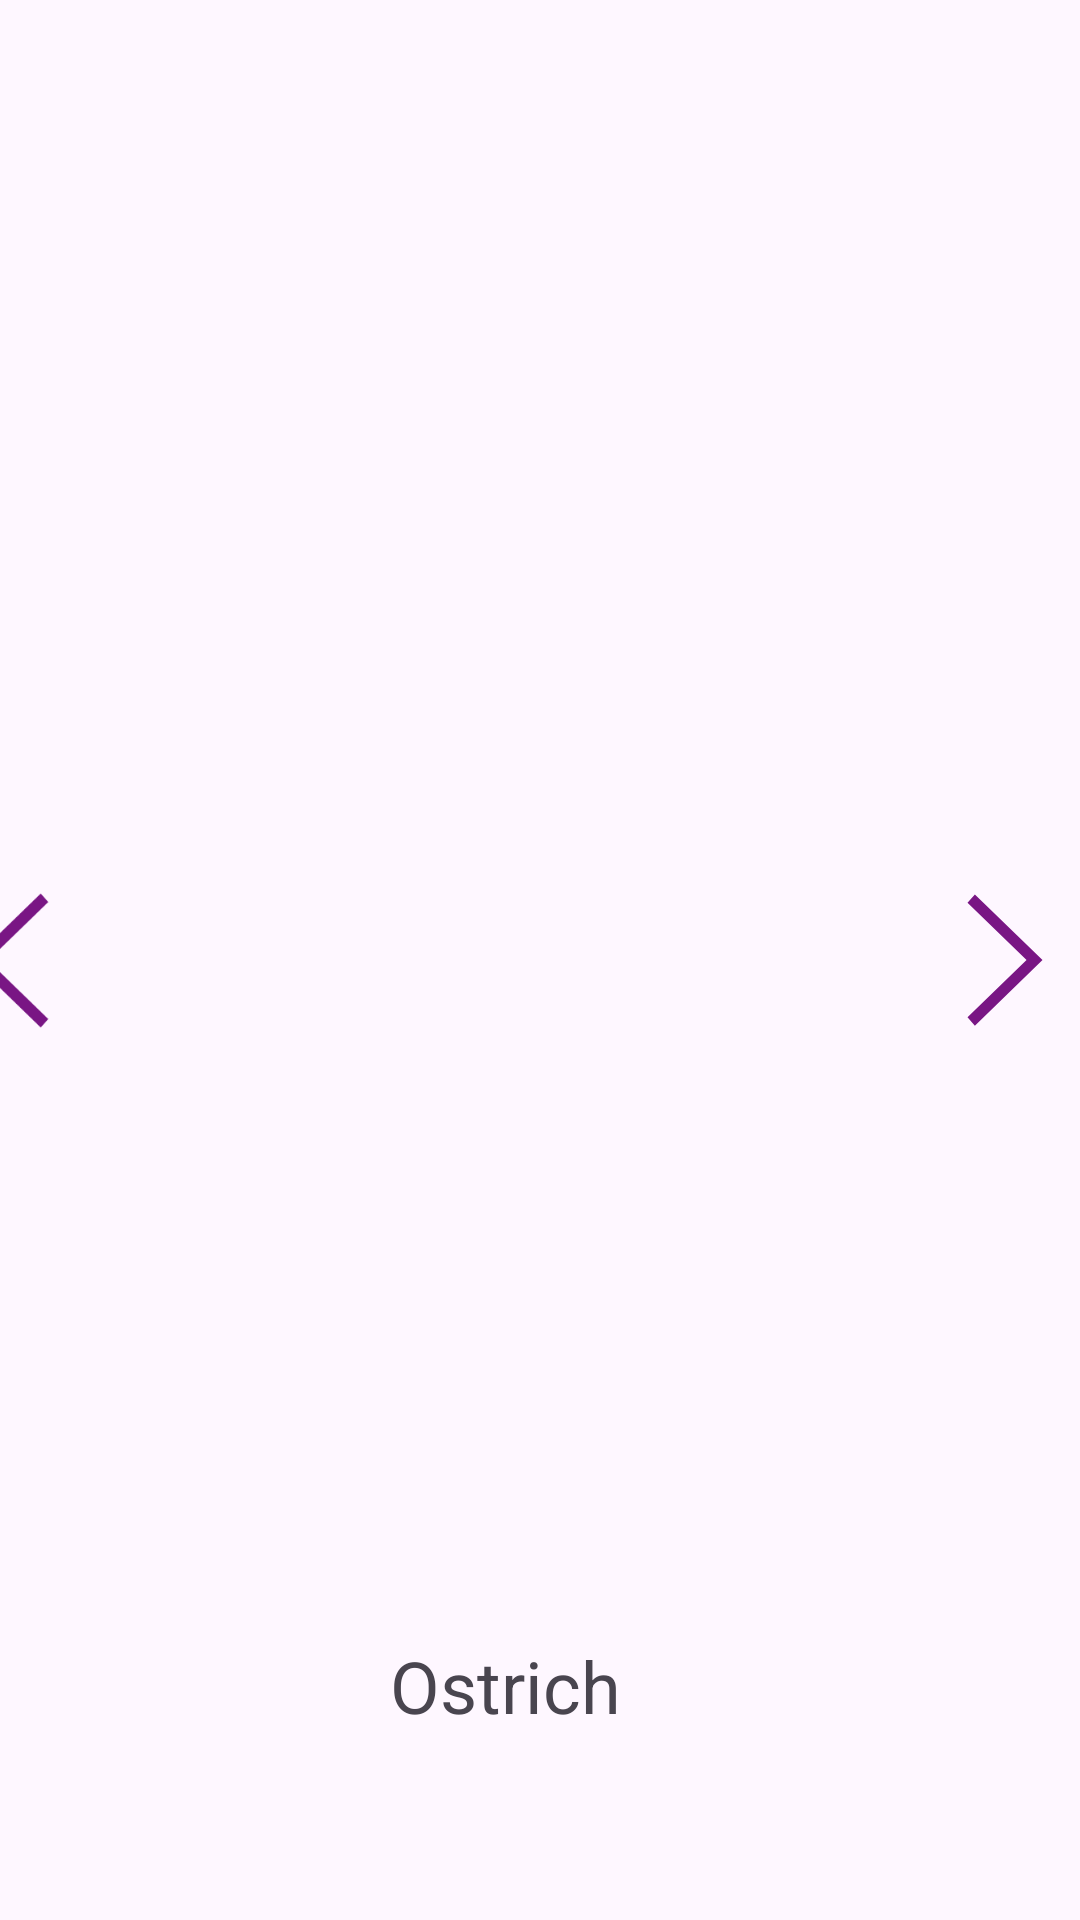

Icon bounding boxes for this 1080x1920 phone screenshot, format [left=x1, top=y1, right=x2, bottom=y2]:
right arrow backup: [left=967, top=894, right=1043, bottom=1026]
